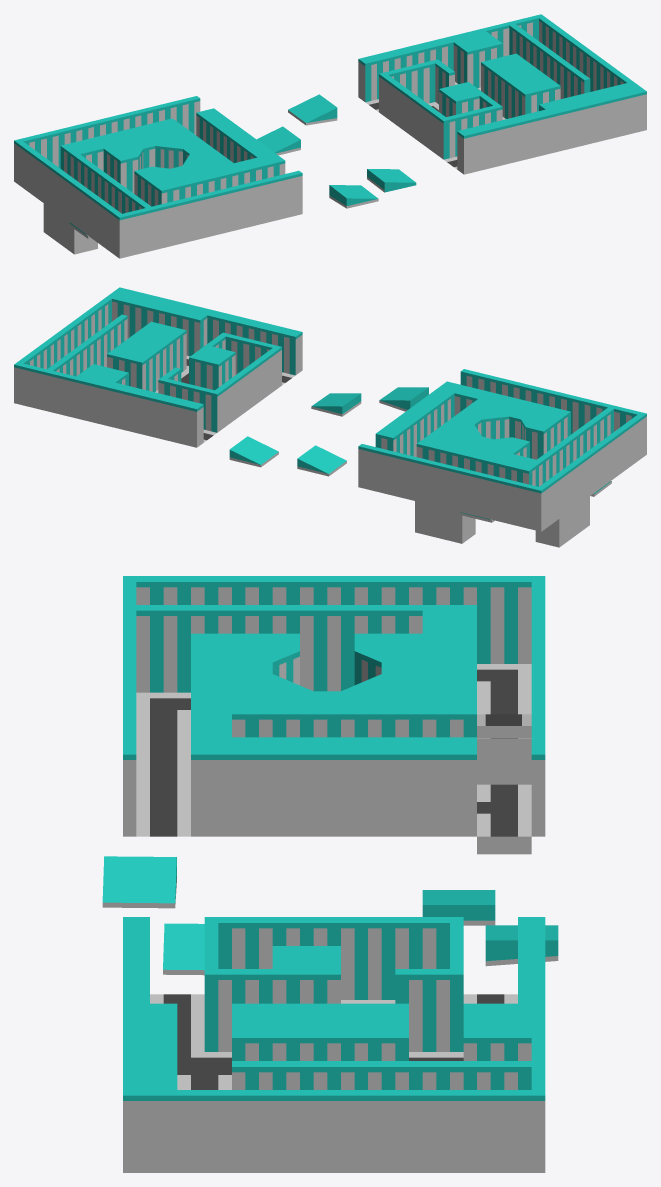
Rendered from levelobj6.fbx.
3 renders of one model, top to bottom at view 1: azimuth 30°, elevation 25°; view 2: azimuth 150°, elevation 25°; view 3: azimuth 270°, elevation 25°, orthographic. The views are drawn at different scales.
Visible parts, largest first — view 1: Plane, Plane.001, Cube; view 2: Plane, Plane.001, Cube; view 3: Plane, Plane.001, Cube.
Part boxes in pixels (x1,y1,x2,y2): Plane: [14, 96, 302, 258]; Plane.001: [358, 14, 646, 174]; Cube: [69, 94, 416, 238]; Plane: [358, 369, 646, 547]; Plane.001: [14, 287, 302, 447]; Cube: [229, 387, 611, 522]; Plane: [123, 576, 545, 854]; Plane.001: [123, 917, 545, 1172]; Cube: [102, 714, 558, 975].
Size of the model in its own units: 4613 by 632 by 1726.
